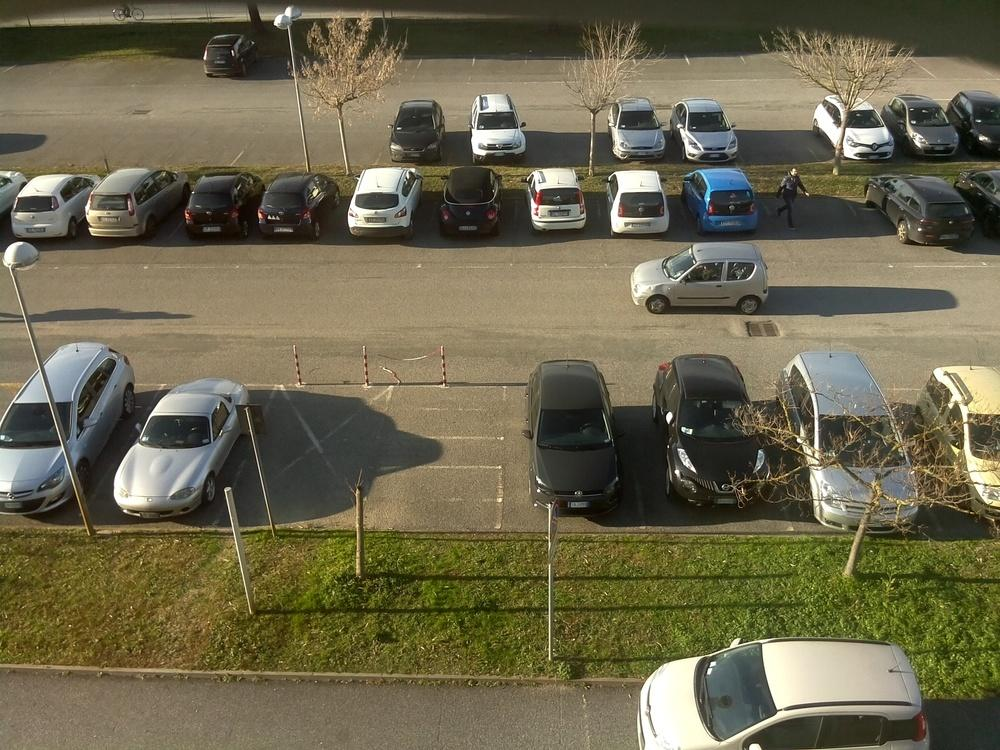empty: (641, 635, 946, 750), (649, 352, 795, 507), (4, 341, 132, 512), (110, 376, 257, 520), (779, 352, 931, 475), (524, 357, 635, 511), (640, 245, 771, 317), (936, 363, 996, 500), (872, 172, 982, 246), (81, 170, 176, 240), (338, 163, 424, 238), (680, 169, 772, 234), (252, 174, 339, 242), (7, 173, 91, 243), (430, 167, 512, 238), (604, 167, 684, 235), (180, 171, 259, 239), (669, 94, 749, 160), (460, 95, 536, 161), (889, 93, 967, 157), (520, 169, 596, 234), (603, 100, 672, 164), (824, 101, 896, 159), (385, 102, 453, 163), (199, 26, 261, 86), (954, 95, 1000, 155), (966, 174, 1000, 241)
occupied: (749, 167, 827, 247), (738, 102, 821, 171), (312, 117, 392, 171), (236, 120, 313, 173), (917, 36, 994, 86), (162, 126, 241, 171), (681, 23, 739, 82), (90, 128, 164, 170), (534, 118, 593, 160)
